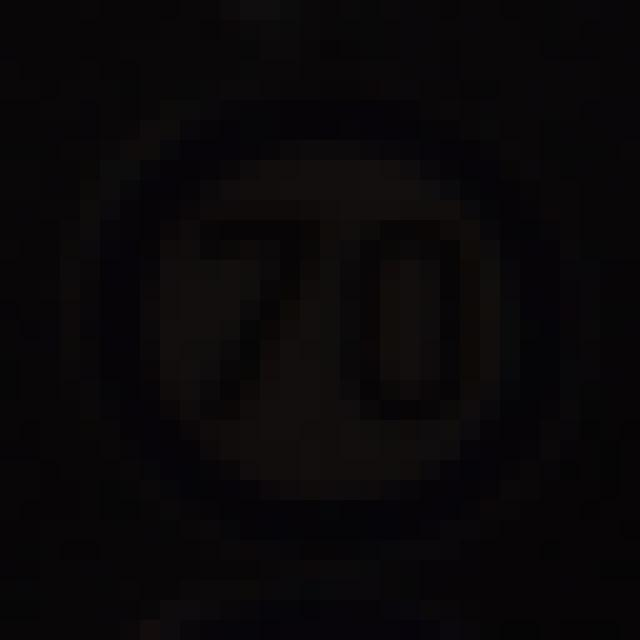SPEED LIMIT 70: (70, 115, 544, 508)
